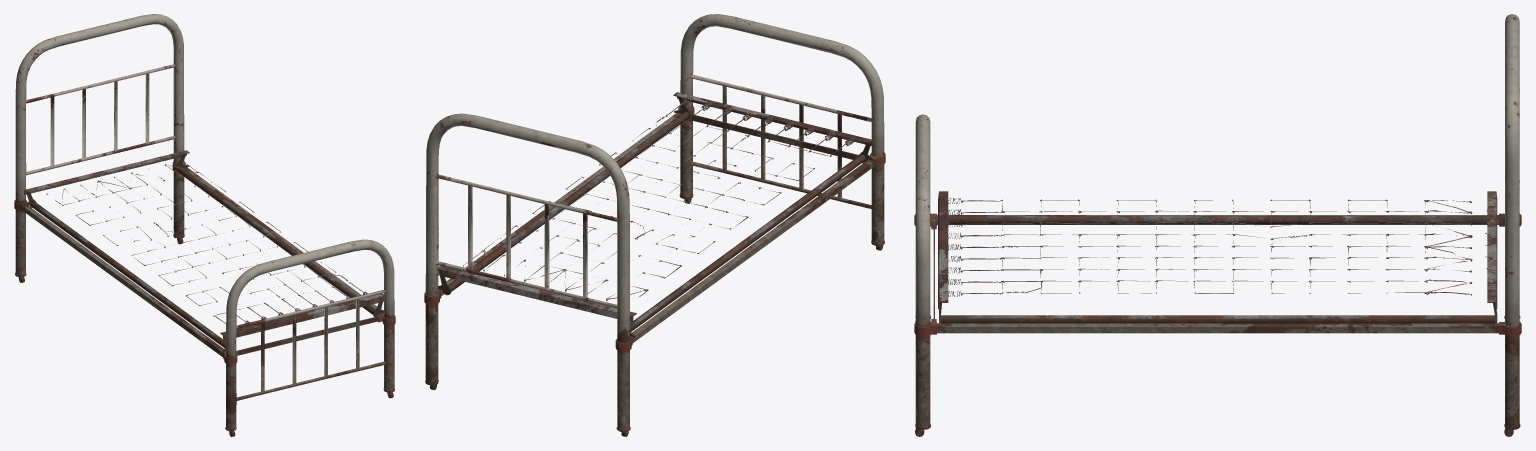
Rendered from old_bed_frame.glb.
The picture shows the model from 3 angles, left to right: view 1: azimuth 30°, elevation 25°; view 2: azimuth 150°, elevation 25°; view 3: azimuth 270°, elevation 25°; orthographic projection. The views are drawn at different scales.
Visible parts, largest first — view 1: old_bed_frame_mesh; view 2: old_bed_frame_mesh; view 3: old_bed_frame_mesh.
Part boxes in pixels (x1,y1,x2,y2): old_bed_frame_mesh: [14, 14, 395, 436]; old_bed_frame_mesh: [424, 14, 885, 436]; old_bed_frame_mesh: [914, 14, 1521, 436].
Size of the model in its own units: 0.9047 by 1.2 by 2.
1 material, 1 textured.
